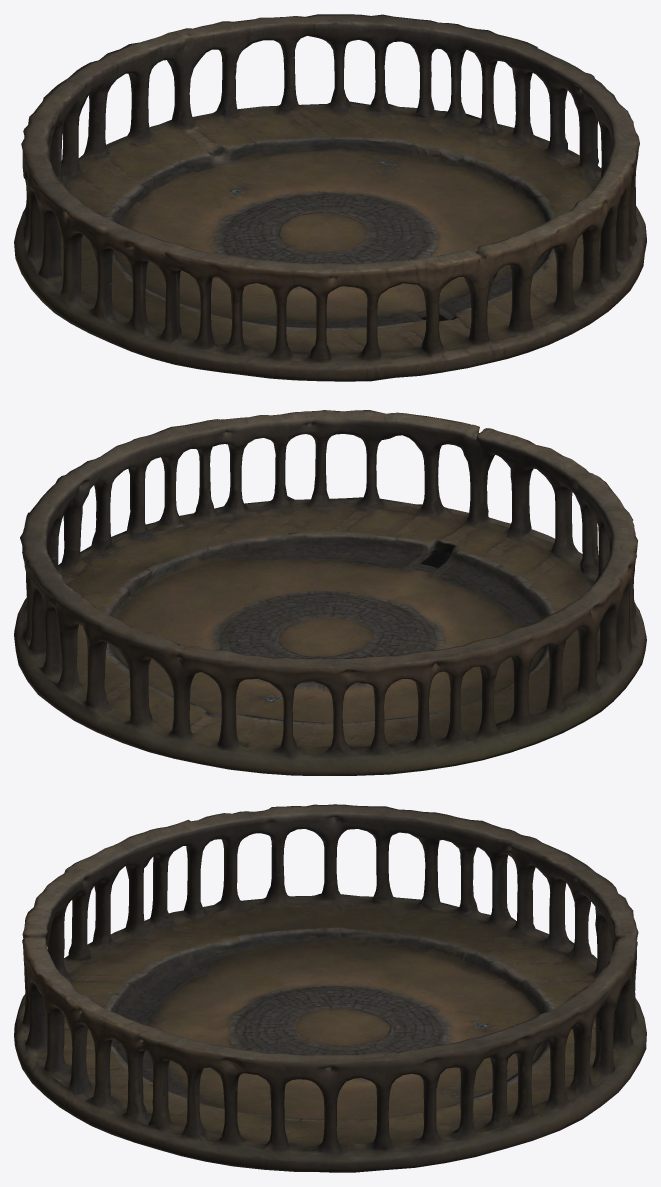
The model's file is I_am_making_a_3d_vr_g_0115092306_texture.fbx.
3 renders of one model, top to bottom at view 1: azimuth 30°, elevation 25°; view 2: azimuth 150°, elevation 25°; view 3: azimuth 270°, elevation 25°, orthographic.
Parts seen in each view (by area): view 1: Mesh1_Mesh1.048; view 2: Mesh1_Mesh1.048; view 3: Mesh1_Mesh1.048.
Part boxes in pixels (<box>): Mesh1_Mesh1.048: <box>14,14,646,381</box>; Mesh1_Mesh1.048: <box>14,410,646,775</box>; Mesh1_Mesh1.048: <box>14,804,646,1172</box>.
Bounding box in the file's own units: 199 × 37.34 × 199.
1 material, 1 textured.
